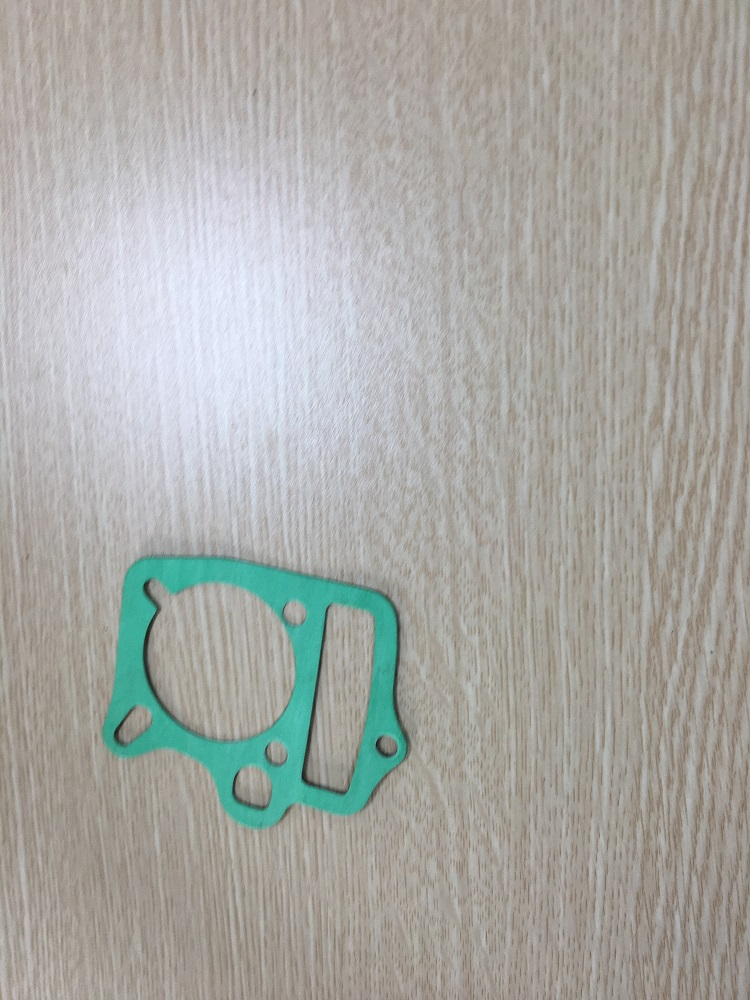circle 1: (129, 562, 310, 753)
circle 2: (215, 756, 283, 831)
circle 3: (100, 693, 173, 765)
circle 4: (271, 590, 318, 634)
circle 5: (360, 727, 413, 777)
circle 6: (291, 596, 385, 809)
object: (56, 527, 442, 862)
